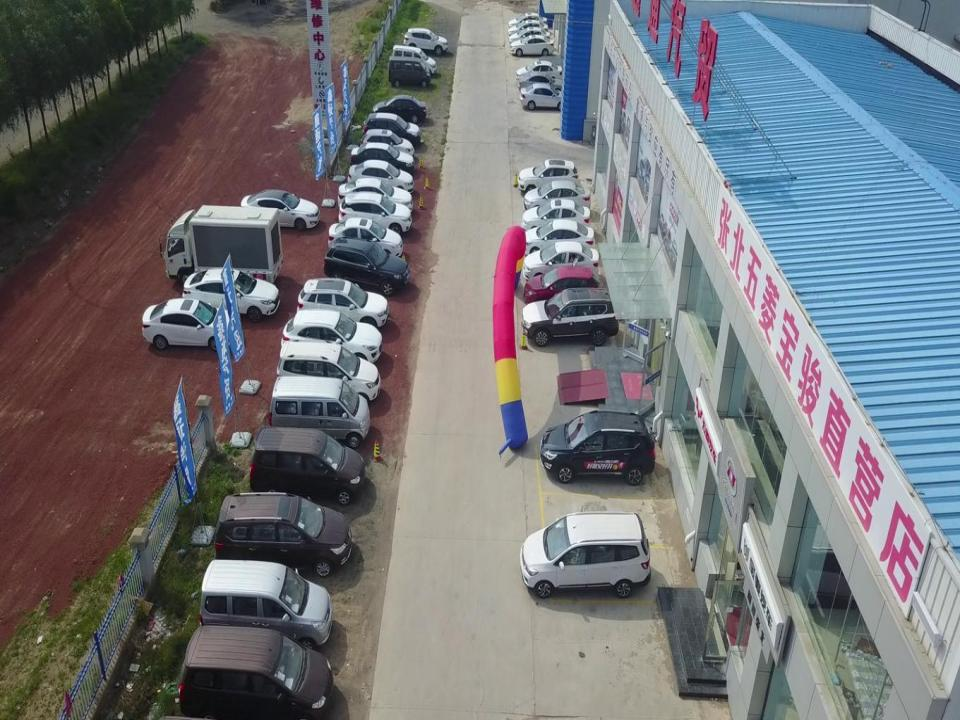car: (539, 410, 655, 486), (274, 311, 382, 367), (520, 286, 618, 344), (182, 267, 279, 321), (320, 237, 408, 295), (139, 299, 235, 352), (296, 277, 390, 331), (242, 187, 320, 232), (328, 217, 405, 260), (521, 265, 605, 304), (337, 192, 413, 234), (519, 240, 603, 277), (337, 177, 413, 215), (520, 221, 596, 255), (522, 200, 590, 233), (349, 159, 414, 191), (519, 159, 579, 193), (349, 143, 417, 172), (524, 181, 588, 209), (365, 112, 421, 144), (360, 129, 416, 157), (372, 95, 427, 123), (520, 83, 568, 114), (405, 27, 450, 53), (520, 73, 566, 95), (510, 34, 555, 56), (518, 59, 562, 80), (509, 26, 555, 46), (508, 12, 548, 29), (509, 20, 550, 35)
truck: (156, 203, 284, 287)
van: (179, 623, 334, 718), (198, 558, 334, 648), (214, 490, 352, 575), (519, 512, 653, 599), (246, 428, 367, 504), (270, 374, 370, 446), (276, 342, 380, 399), (391, 43, 438, 76), (388, 55, 432, 88)
